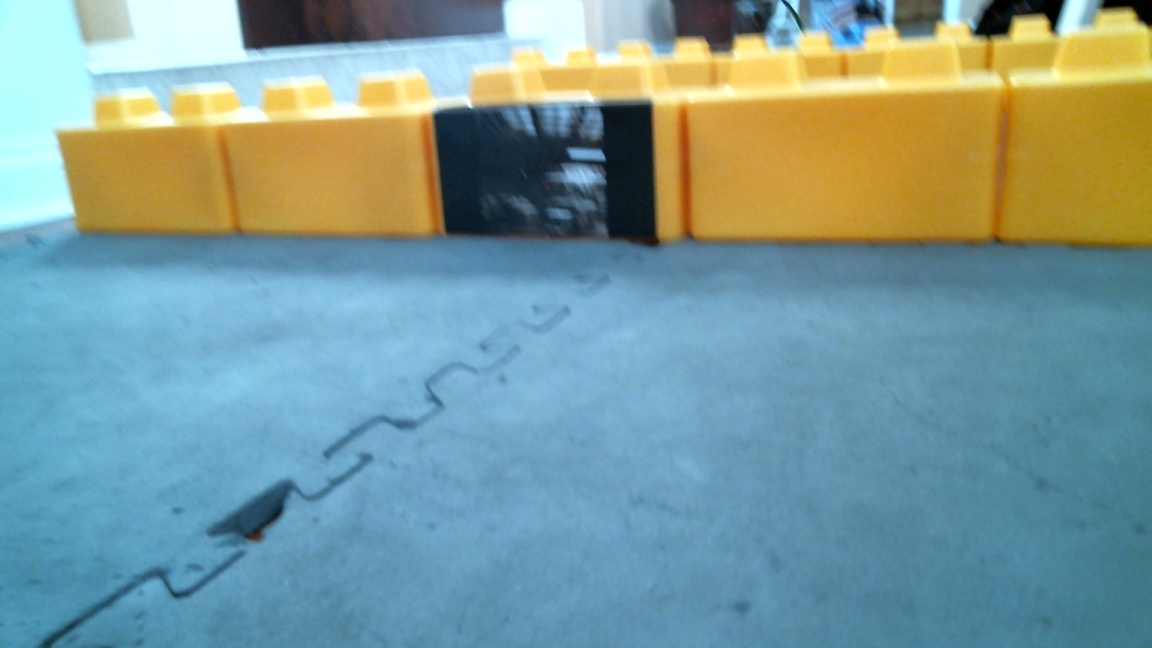skystone: (427, 74, 682, 247)
stone: (694, 38, 991, 260), (222, 66, 432, 250), (996, 25, 1152, 248), (50, 86, 235, 242)
